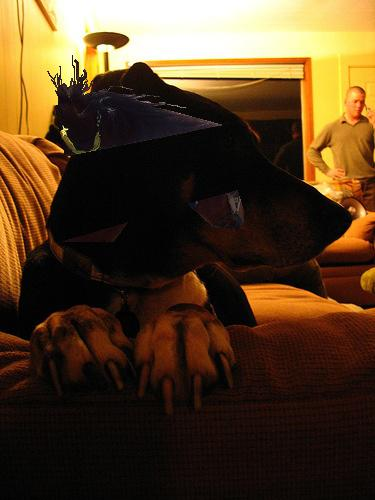tampered: (48, 56, 244, 242)
